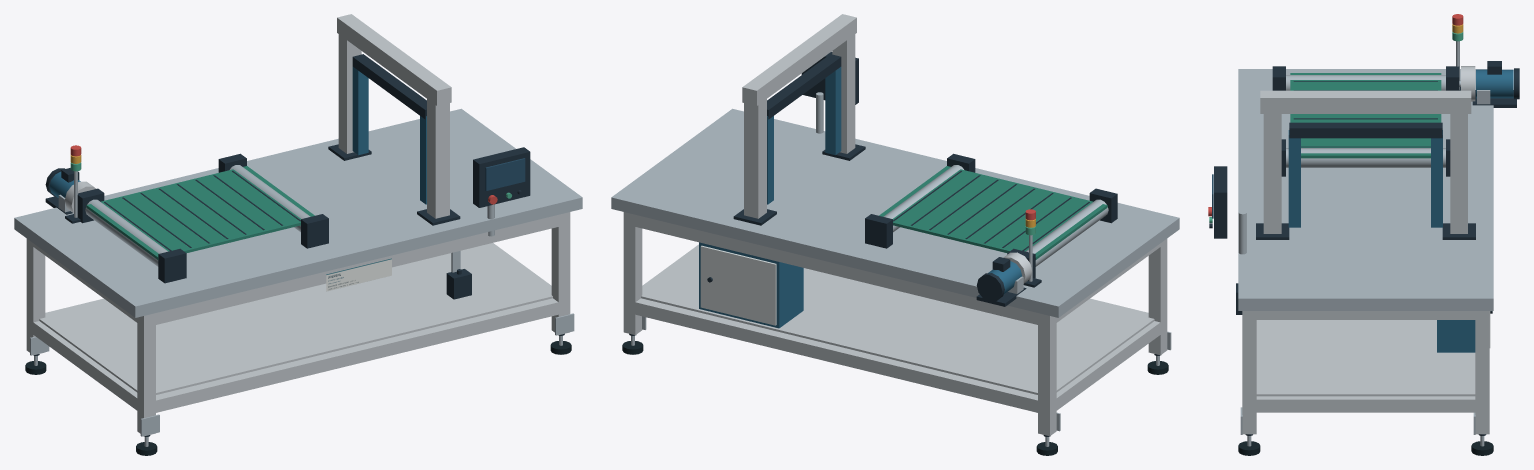
Rendered from eddy-current-cell.glb.
The picture shows the model from 3 angles, left to right: view 1: azimuth 30°, elevation 25°; view 2: azimuth 150°, elevation 25°; view 3: azimuth 270°, elevation 25°; orthographic projection. The views are drawn at different scales.
Visible parts, largest first — view 1: ClosedMachineBed_28, LowerShelf_29, Belt_48, SlottedExtrusion_22, SlottedExtrusion_23, SlottedExtrusion_75, SlottedExtrusion_73, SlottedExtrusion_8, SlottedExtrusion_24, ConsoleBack_34, SlottedExtrusion_71, SlottedExtrusion_18 (+11 smaller); view 2: ClosedMachineBed_28, LowerShelf_29, Belt_48, SlottedExtrusion_20, SlottedExtrusion_21, BackDoor_31, SlottedExtrusion_75, SlottedExtrusion_71, SlottedExtrusion_3, SlottedExtrusion_13, Cabinet_30, SlottedExtrusion_24 (+9 smaller); view 3: ClosedMachineBed_28, LowerShelf_29, Belt_48, SlottedExtrusion_75, SlottedExtrusion_26, SensorBridge_78, SlottedExtrusion_73, SlottedExtrusion_71, BeltRoller_52, SlottedExtrusion_27, SlottedExtrusion_18, SlottedExtrusion_13 (+13 smaller).
Part boxes in pixels (bbox=[...]): ClosedMachineBed_28: bbox=[14, 108, 582, 317]; LowerShelf_29: bbox=[39, 244, 552, 394]; Belt_48: bbox=[86, 166, 314, 259]; SlottedExtrusion_22: bbox=[150, 298, 564, 413]; SlottedExtrusion_23: bbox=[150, 213, 564, 326]; SlottedExtrusion_75: bbox=[337, 14, 451, 105]; SlottedExtrusion_73: bbox=[427, 91, 449, 218]; SlottedExtrusion_8: bbox=[137, 313, 155, 436]; SlottedExtrusion_24: bbox=[33, 321, 137, 410]; ConsoleBack_34: bbox=[473, 147, 530, 207]; SlottedExtrusion_71: bbox=[338, 27, 361, 153]; SlottedExtrusion_18: bbox=[551, 212, 570, 335]; ClosedMachineBed_28: bbox=[611, 108, 1179, 317]; LowerShelf_29: bbox=[641, 248, 1154, 394]; Belt_48: bbox=[879, 166, 1107, 259]; SlottedExtrusion_20: bbox=[629, 298, 1043, 413]; SlottedExtrusion_21: bbox=[635, 215, 1043, 324]; BackDoor_31: bbox=[700, 245, 776, 325]; SlottedExtrusion_75: bbox=[742, 14, 856, 105]; SlottedExtrusion_71: bbox=[744, 94, 766, 218]; SlottedExtrusion_3: bbox=[1038, 313, 1056, 436]; SlottedExtrusion_13: bbox=[623, 212, 642, 335]; Cabinet_30: bbox=[699, 242, 803, 328]; SlottedExtrusion_24: bbox=[1056, 321, 1160, 410]; ClosedMachineBed_28: bbox=[1238, 69, 1493, 310]; LowerShelf_29: bbox=[1256, 320, 1475, 396]; Belt_48: bbox=[1290, 73, 1441, 158]; SlottedExtrusion_75: bbox=[1260, 90, 1471, 113]; SlottedExtrusion_26: bbox=[1249, 396, 1482, 412]; SensorBridge_78: bbox=[1289, 122, 1442, 138]; SlottedExtrusion_73: bbox=[1263, 106, 1281, 233]; SlottedExtrusion_71: bbox=[1450, 106, 1467, 233]; BeltRoller_52: bbox=[1286, 148, 1445, 167]; SlottedExtrusion_27: bbox=[1249, 311, 1481, 319]; SlottedExtrusion_18: bbox=[1242, 311, 1256, 434]; SlottedExtrusion_13: bbox=[1475, 311, 1489, 434].
Bounding box in the file's own units: 2.45 × 1.49 × 1.4.
12 materials, 1 textured.
